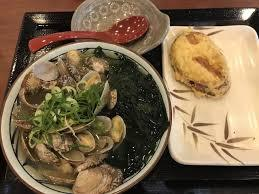asari: (1, 44, 165, 194)
satumaimo: (173, 31, 229, 97)
